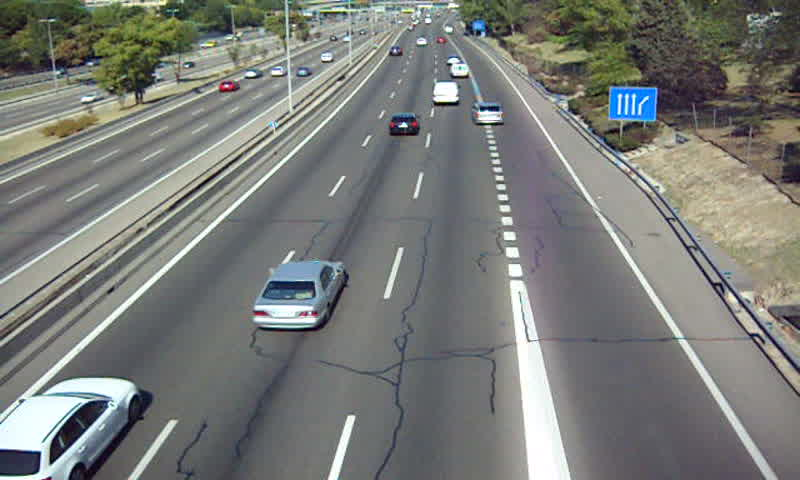car: (1, 376, 138, 480), (253, 258, 346, 330), (474, 102, 506, 127), (388, 112, 420, 137)
van: (432, 81, 460, 107), (452, 62, 469, 79)
